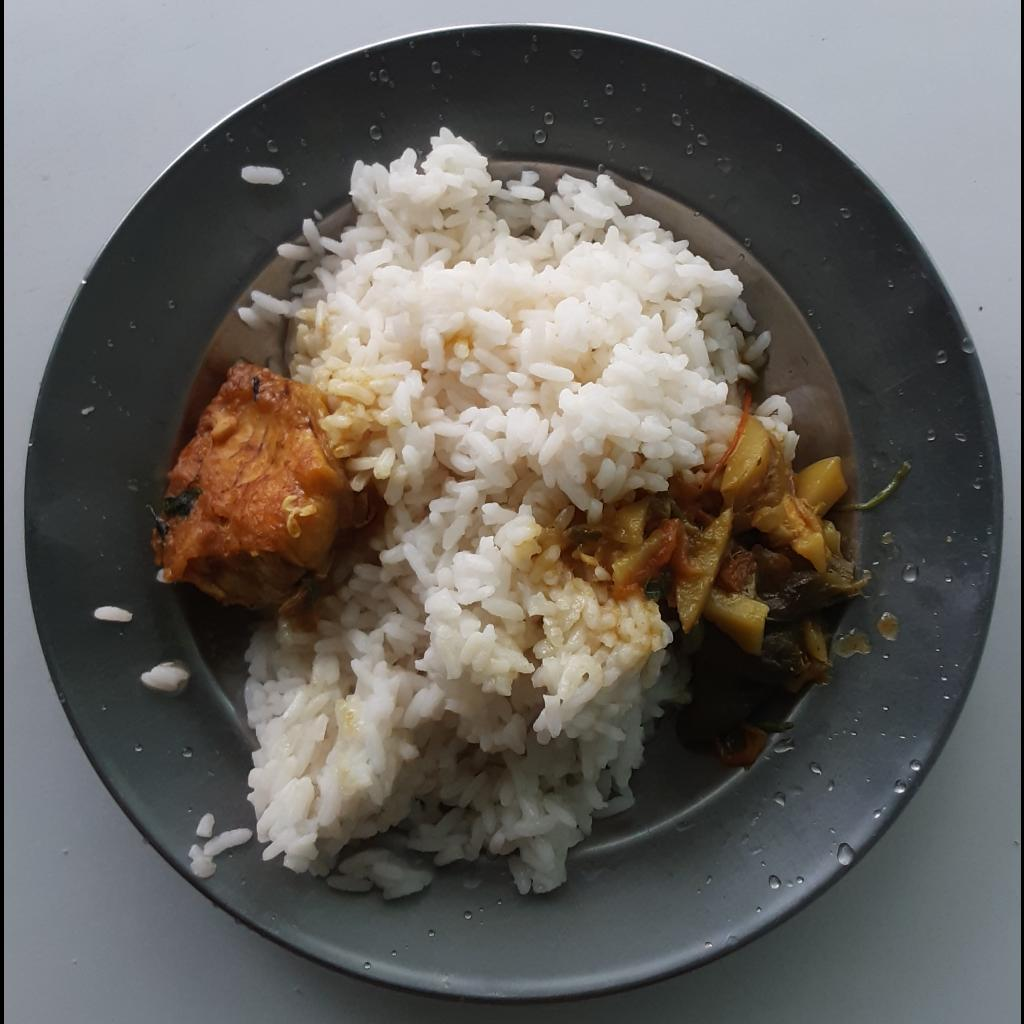fish: (155, 349, 344, 619)
rice: (230, 121, 795, 902)
vegetable: (561, 401, 861, 765)
